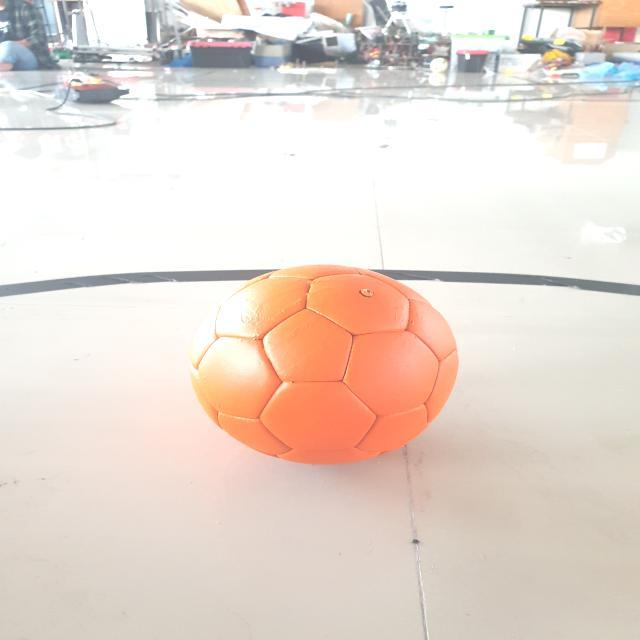bola: (181, 256, 467, 472)
